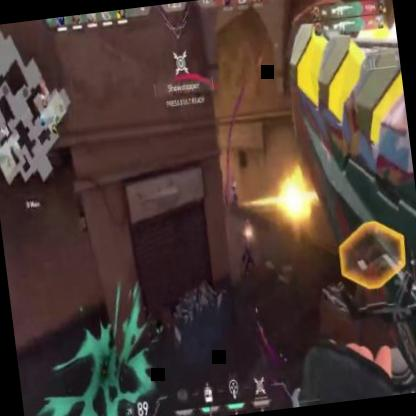enemy: (237, 226, 259, 278), (226, 175, 240, 216)
enemy_head: (230, 176, 234, 183)
